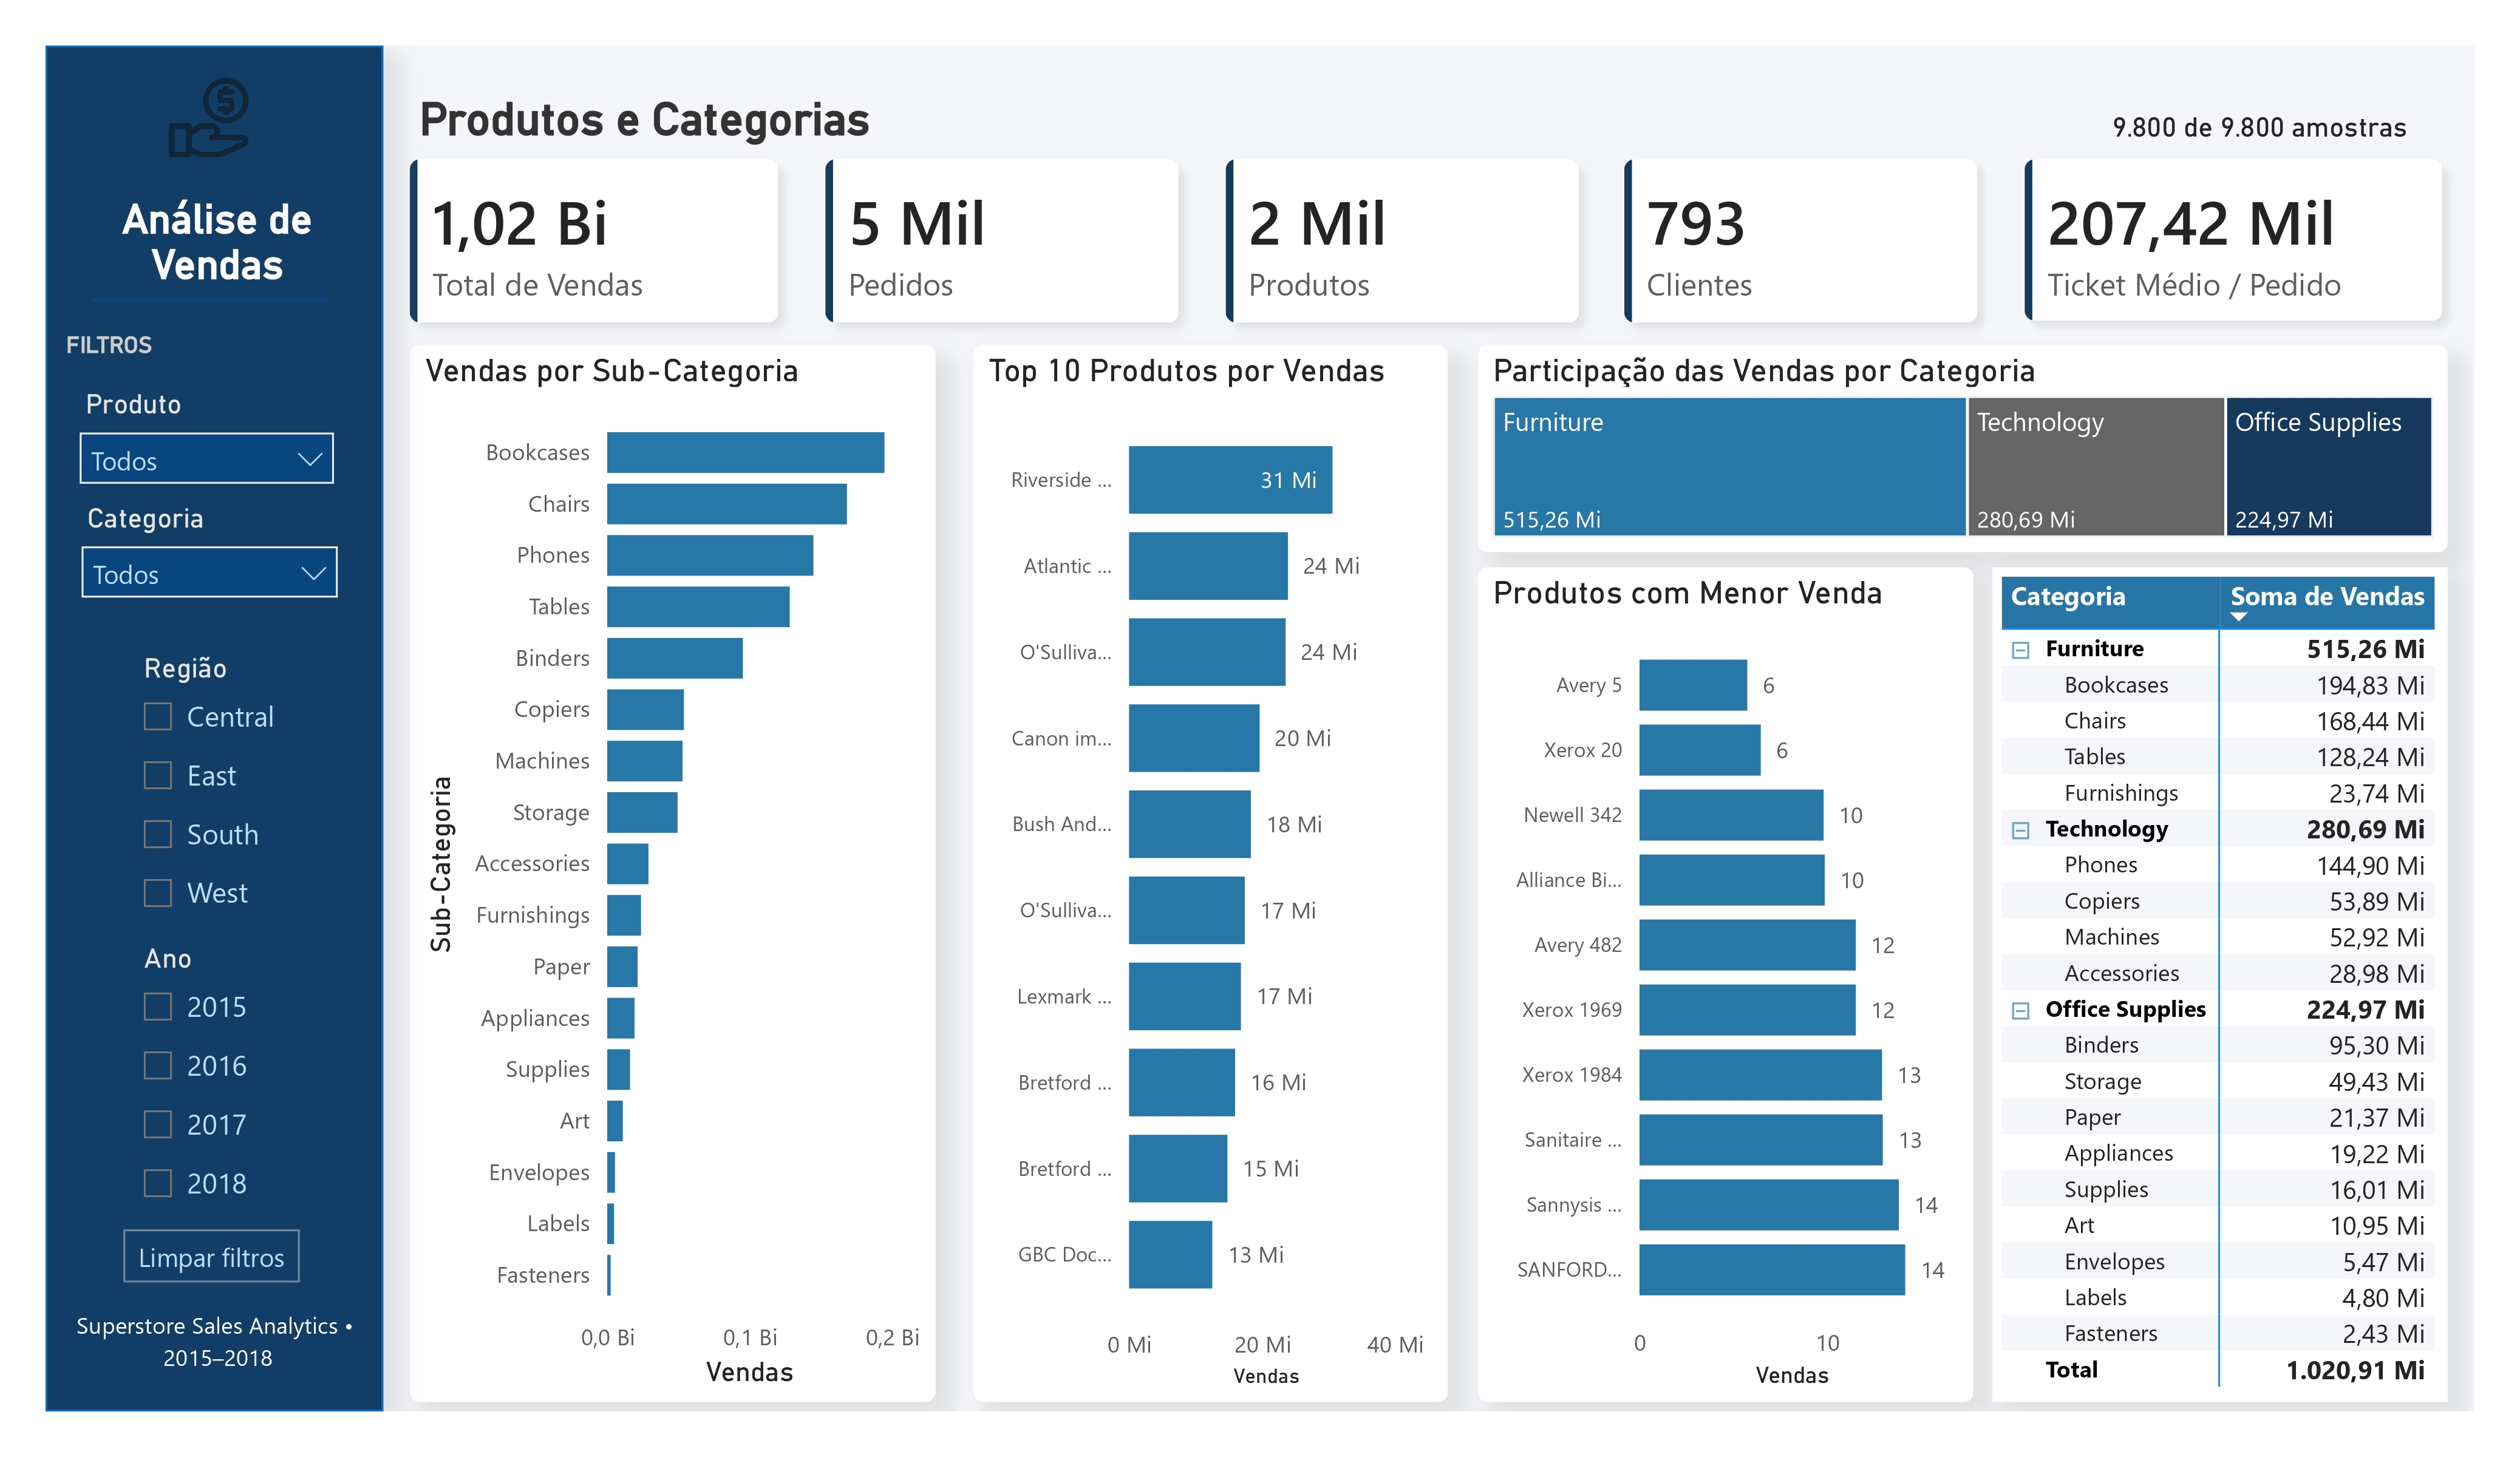

This screenshot's page, from the dashboard's own definition file:
{"tool":"powerbi","page":{"name":"Produtos e Categorias","canvas":[1280,720],"ordinal":2},"visuals":[{"type":"actionButton","box":[0,0,100,40],"z":0},{"type":"cardVisual","fields":{"Data":["Sum(superstore_sales.Vendas)"]},"box":[175,42.7,228.1,120.8],"z":1000},{"type":"cardVisual","fields":{"Data":["superstore_sales.Pedidos"]},"box":[393.9,42.7,220,120],"z":2000},{"type":"cardVisual","fields":{"Data":["superstore_sales.Clientes_Unico"]},"box":[815.3,42.7,220,120],"z":3000},{"type":"cardVisual","fields":{"Data":["superstore_sales.Produtos_Unico"]},"box":[604.6,42.7,220,120],"z":4000},{"type":"cardVisual","fields":{"Data":["superstore_sales.Ticket_Médio"]},"box":[1025.8,42.7,254.2,119.8],"z":5000},{"type":"barChart","fields":{"Y":["Sum(superstore_sales.Vendas)"],"Category":["superstore_sales.Sub_Categoria"]},"box":[191.7,158.3,277.1,556.2],"z":7000},{"type":"clusteredBarChart","title":"Top 10 Produtos por Vendas","fields":{"Y":["Sum(superstore_sales.Vendas)"],"Category":["superstore_sales.Nome_Produto"]},"box":[488.5,158.3,250,556.2],"z":9000},{"type":"shape","title":"Visão Geral","box":[0,0,178.2,719.5],"z":10000},{"type":"slicer","fields":{"Values":["superstore_sales.Região"]},"box":[39.5,314.6,100.4,168],"z":11000},{"type":"slicer","fields":{"Values":["superstore_sales.Categoria"]},"box":[9,235.7,154.5,78.9],"z":12000},{"type":"textbox","box":[1,660.4,180.2,54.2],"z":13000},{"type":"textbox","box":[6.2,74,168.8,68.8],"z":14000},{"type":"shape","box":[25,103.1,122.9,61.5],"z":15000},{"type":"image","box":[49,12.5,74,50],"z":16000},{"type":"textbox","box":[5.6,143.2,148.9,29.3],"z":17000},{"type":"slicer","fields":{"Values":["superstore_sales.Nome_Produto"]},"box":[7.9,175.9,154.5,78.9],"z":18000},{"type":"slicer","fields":{"Values":["superstore_sales.Ano_Realizado"]},"box":[39.5,468,100.4,168],"z":19000},{"type":"textbox","box":[191.7,19.8,312.5,54.2],"z":20000},{"type":"actionButton","box":[41,624,92.7,28.1],"z":21000},{"type":"cardVisual","fields":{"Data":["superstore_sales.Indicador de Amostras"]},"box":[1060.4,0,219.8,108.3],"z":22000},{"type":"treemap","title":"Participação das Vendas por Categoria","fields":{"Group":["superstore_sales.Categoria"],"Values":["Sum(superstore_sales.Vendas)"]},"box":[755.2,158.3,510.4,108.3],"z":22001},{"type":"clusteredBarChart","title":"Produtos com Menor Venda","fields":{"Y":["Sum(superstore_sales.Vendas)"],"Category":["superstore_sales.Nome_Produto"]},"box":[755.2,275,260.4,439.6],"z":22002},{"type":"pivotTable","fields":{"Rows":["superstore_sales.Categoria","superstore_sales.Sub_Categoria"],"Values":["Sum(superstore_sales.Vendas)"]},"box":[1026,275,239.6,439.6],"z":22003}]}

Visuals, with their boxes on the page's 1280x720 design canvas (x1, y1, x2, y2). These are canvas units, not pixel positions in the 2520x1457 screenshot, which may show the page scaled, cropped or inside an application window:
actionButton: (0,0,100,40)
cardVisual - Sum(superstore_sales.Vendas): (175,43,403,164)
cardVisual - superstore_sales.Pedidos: (394,43,614,163)
cardVisual - superstore_sales.Clientes_Unico: (815,43,1035,163)
cardVisual - superstore_sales.Produtos_Unico: (605,43,825,163)
cardVisual - superstore_sales.Ticket_Médio: (1026,43,1280,162)
barChart - Sum(superstore_sales.Vendas) x superstore_sales.Sub_Categoria: (192,158,469,714)
"Top 10 Produtos por Vendas" clusteredBarChart: (488,158,738,714)
"Visão Geral" shape: (0,0,178,720)
slicer - superstore_sales.Região: (40,315,140,483)
slicer - superstore_sales.Categoria: (9,236,164,315)
textbox: (1,660,181,715)
textbox: (6,74,175,143)
shape: (25,103,148,165)
image: (49,12,123,62)
textbox: (6,143,154,172)
slicer - superstore_sales.Nome_Produto: (8,176,162,255)
slicer - superstore_sales.Ano_Realizado: (40,468,140,636)
textbox: (192,20,504,74)
actionButton: (41,624,134,652)
cardVisual - superstore_sales.Indicador de Amostras: (1060,0,1280,108)
"Participação das Vendas por Categoria" treemap: (755,158,1266,267)
"Produtos com Menor Venda" clusteredBarChart: (755,275,1016,715)
pivotTable - superstore_sales.Categoria x superstore_sales.Sub_Categoria: (1026,275,1266,715)
